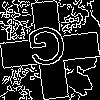G: (25, 25, 70, 76)
